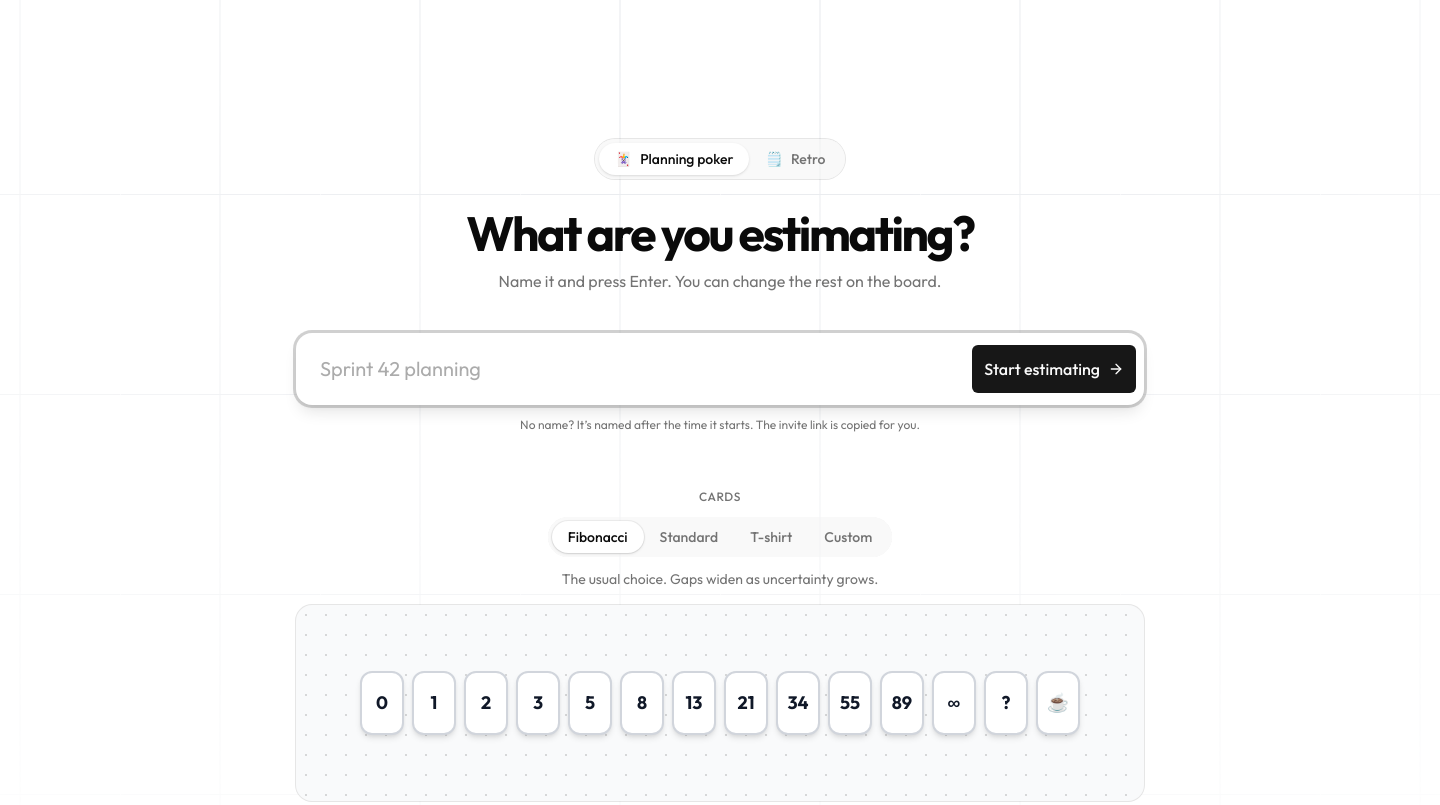
Test case: CreateContent's custom pick, as the deck reads it › lays no pasted card longer than a card holds, cut or otherwise, and says so in the card's rule
Click the radio button labelled "Custom" at coordinates (848, 537), box [824,528,872,546]
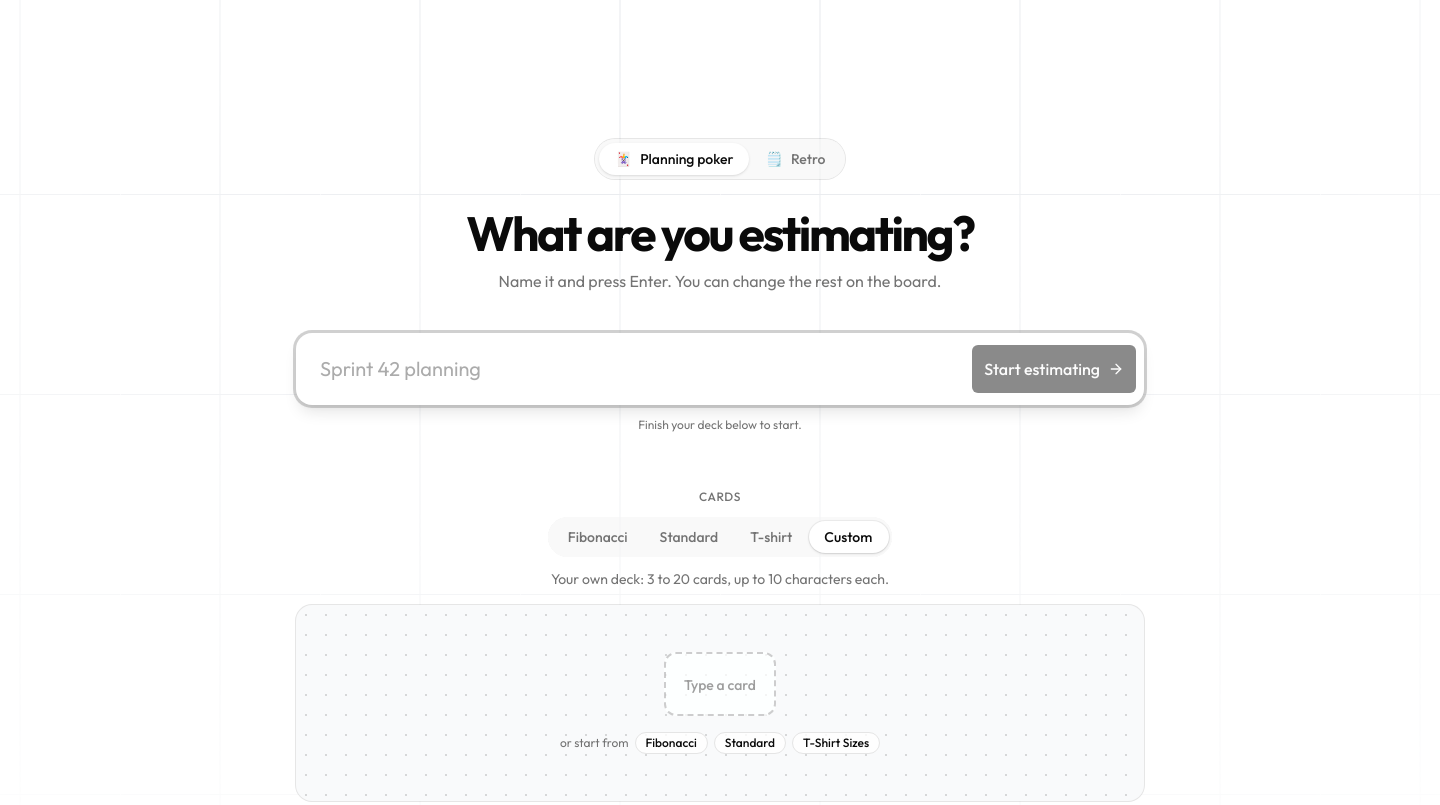
Type "1, Elephantine, 2," into the field named "Add a card" at coordinates (720, 684), box [664,652,776,716]
(page scrolled)
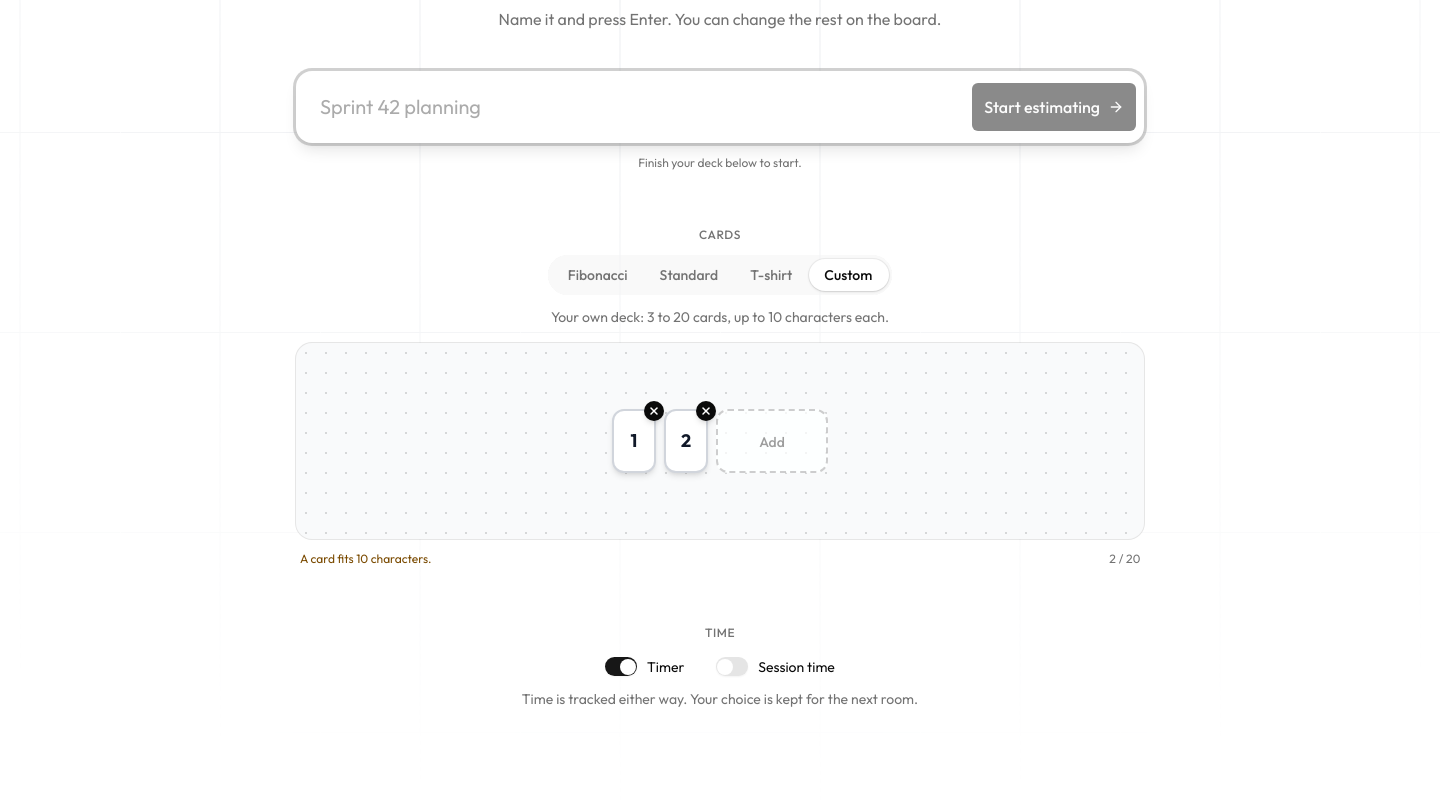
expect the text "A card fits 10 characters." is shown: met, box [300,551,432,567]
